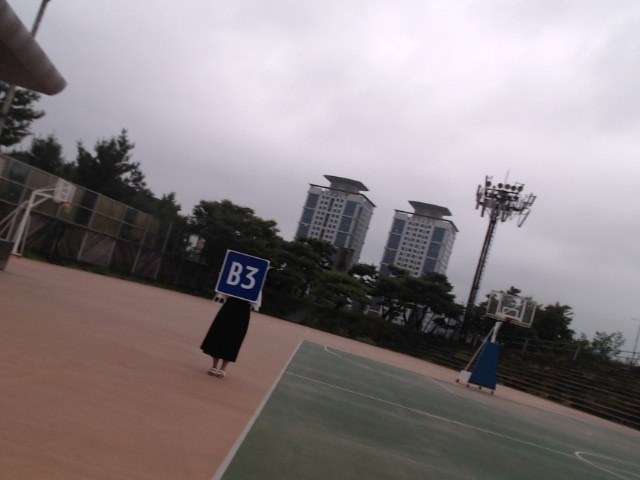delivery_b3: (216, 250, 269, 303)
